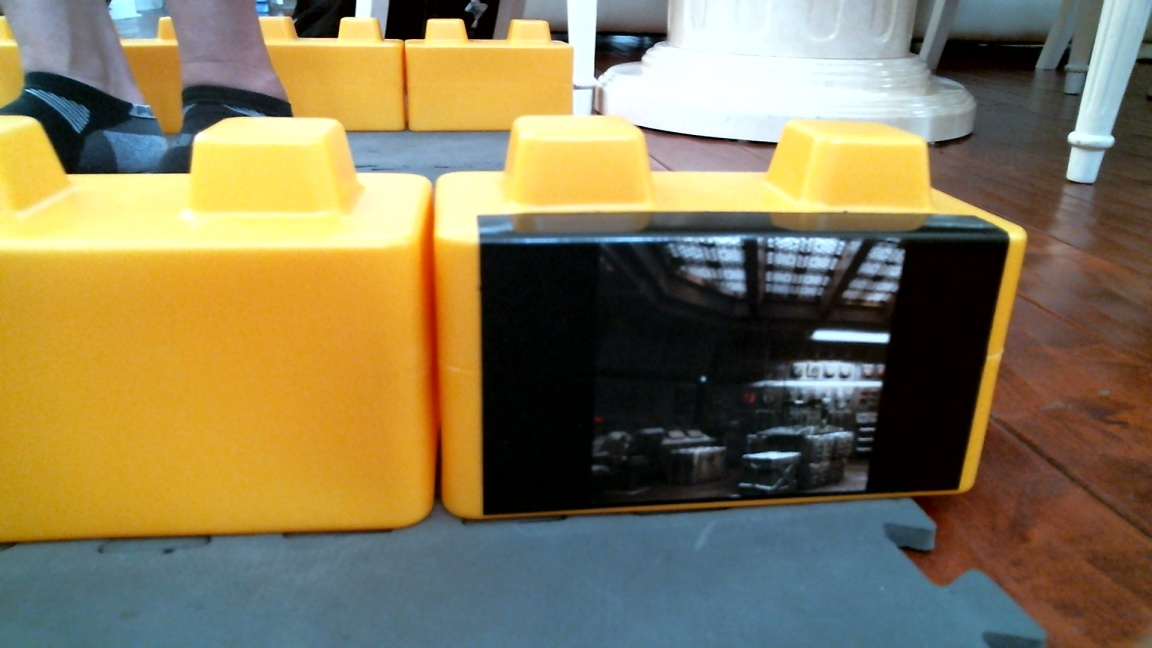skystone: (432, 114, 1003, 500)
stone: (1, 119, 431, 522)
